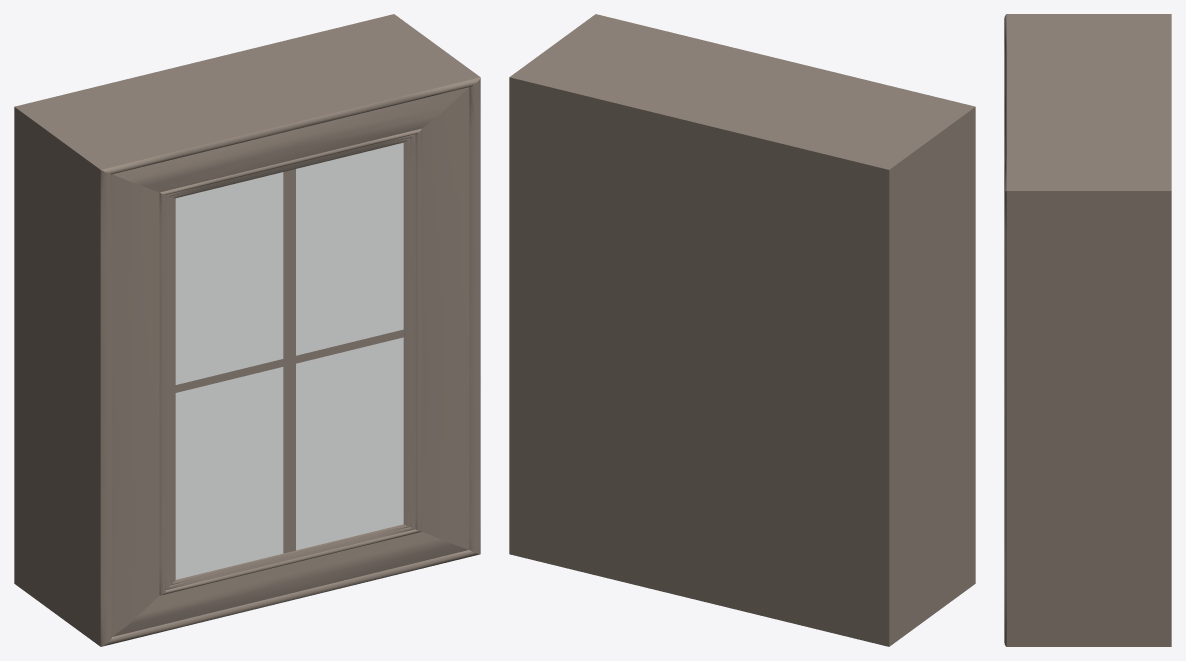
The model's file is Wall-Cabinet-with-Doors-Prepped-for-Glass_std_001_H36in_onlyH.glb.
The picture shows the model from 3 angles, left to right: view 1: azimuth 30°, elevation 25°; view 2: azimuth 150°, elevation 25°; view 3: azimuth 270°, elevation 25°; orthographic projection. The views are drawn at different scales.
Parts seen in each view (by area): view 1: Wall-Cabinet-with-Doors-Prepped-for-Glass.std.001_H36in_only; view 2: Wall-Cabinet-with-Doors-Prepped-for-Glass.std.001_H36in_only; view 3: Wall-Cabinet-with-Doors-Prepped-for-Glass.std.001_H36in_only.
Boxes of the visible parts, x1=… form: Wall-Cabinet-with-Doors-Prepped-for-Glass.std.001_H36in_only: x1=14, y1=14, x2=480, y2=646; Wall-Cabinet-with-Doors-Prepped-for-Glass.std.001_H36in_only: x1=509, y1=14, x2=975, y2=646; Wall-Cabinet-with-Doors-Prepped-for-Glass.std.001_H36in_only: x1=1004, y1=14, x2=1171, y2=646.
Bounding box in the file's own units: 0.762 × 0.9144 × 0.3048.
